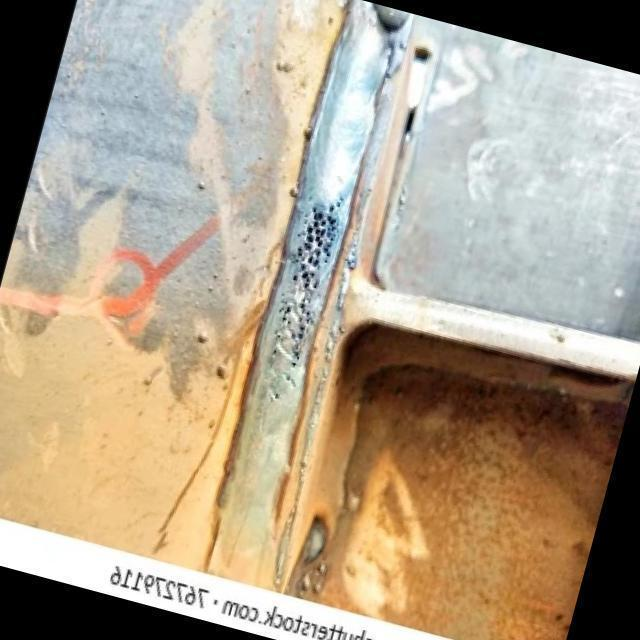defect: (264, 290, 316, 404), (289, 192, 347, 294)
